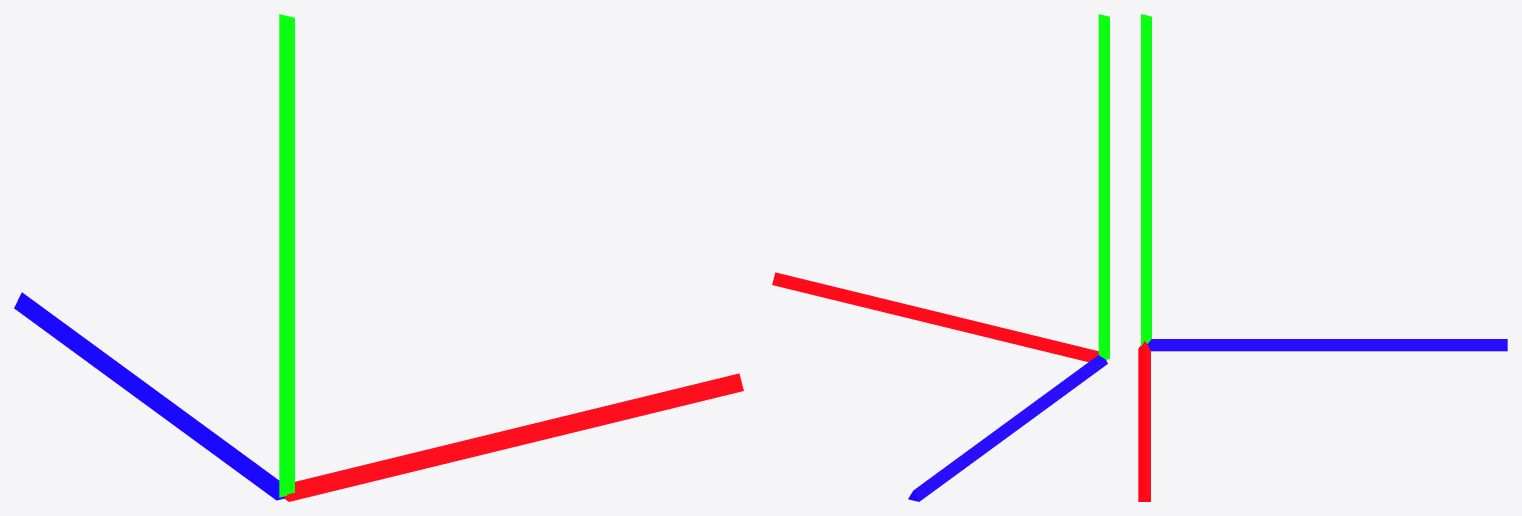
Rendered from coordinate.glb.
3 views of the same model, side by side, from view 1: azimuth 30°, elevation 25°; view 2: azimuth 150°, elevation 25°; view 3: azimuth 270°, elevation 25° (orthographic). The views are drawn at different scales.
Visible parts, largest first — view 1: Cylinder.002, Cylinder, Cylinder.001; view 2: Cylinder.002, Cylinder, Cylinder.001; view 3: Cylinder.001, Cylinder, Cylinder.002.
Boxes of the visible parts, x1,y1,x2,y2 form: Cylinder.002: (284,373,743,501); Cylinder: (279,14,294,497); Cylinder.001: (14,292,284,500); Cylinder.002: (772,272,1098,361); Cylinder: (1098,14,1109,359); Cylinder.001: (908,355,1107,501); Cylinder.001: (1147,339,1507,351); Cylinder: (1141,14,1151,346); Cylinder.002: (1138,341,1150,501).
Size of the model in its own units: 5.09 by 5.05 by 5.09.
